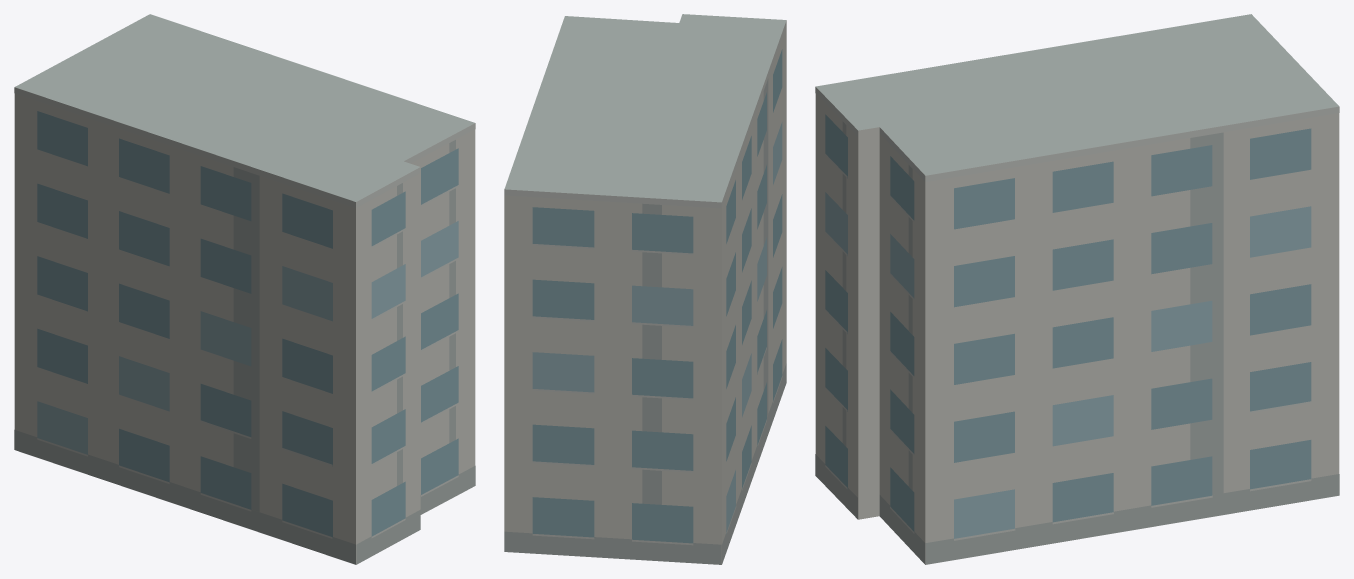
File: survey-upis-32890852.glb
3 renders of one model, left to right at view 1: azimuth 30°, elevation 25°; view 2: azimuth 150°, elevation 25°; view 3: azimuth 270°, elevation 25°, orthographic. The views are drawn at different scales.
Parts seen in each view (by area): view 1: survey-upis-32890852.tmp; view 2: survey-upis-32890852.tmp; view 3: survey-upis-32890852.tmp.
Boxes of the visible parts, box(x1,y1,x2,y2) form: survey-upis-32890852.tmp: box(14, 14, 475, 564); survey-upis-32890852.tmp: box(504, 14, 786, 564); survey-upis-32890852.tmp: box(815, 14, 1339, 564).
Bounding box in the file's own units: 12.89 × 14.45 × 17.65.
